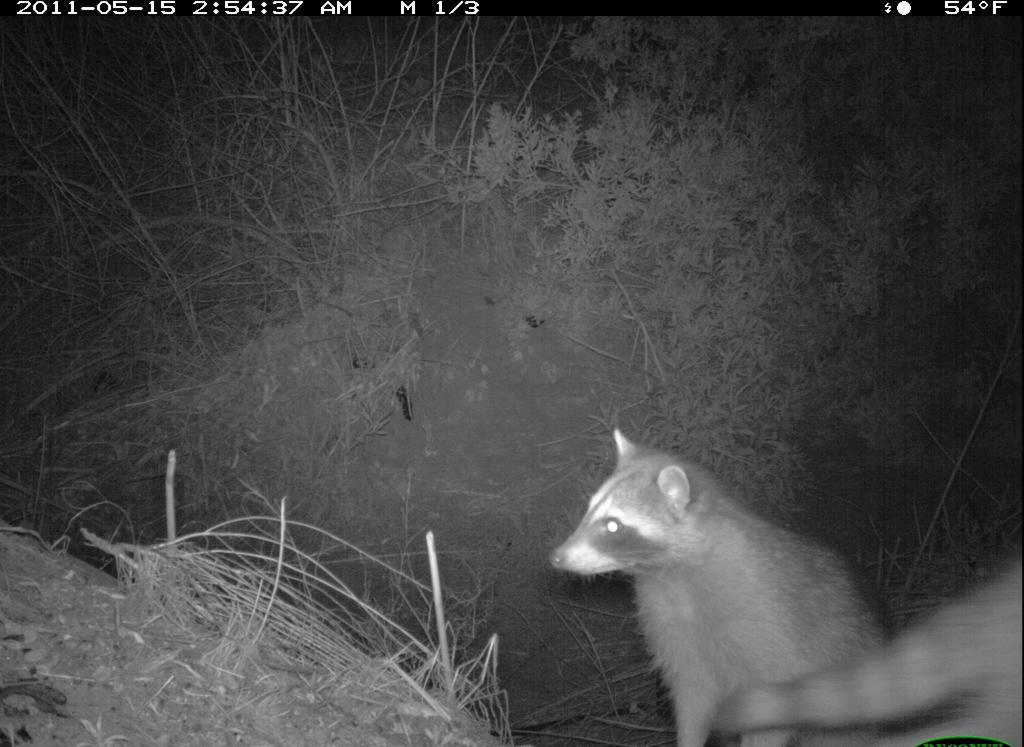raccoon: (541, 417, 912, 747)
